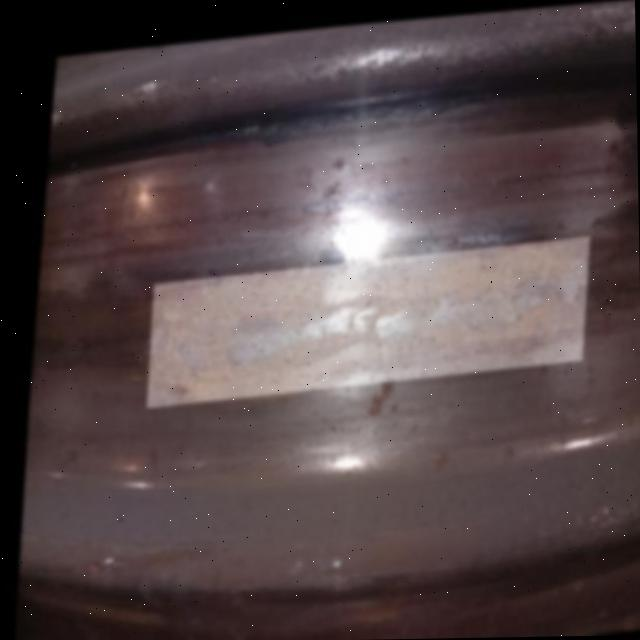Rollerpile: (137, 236, 588, 402)
